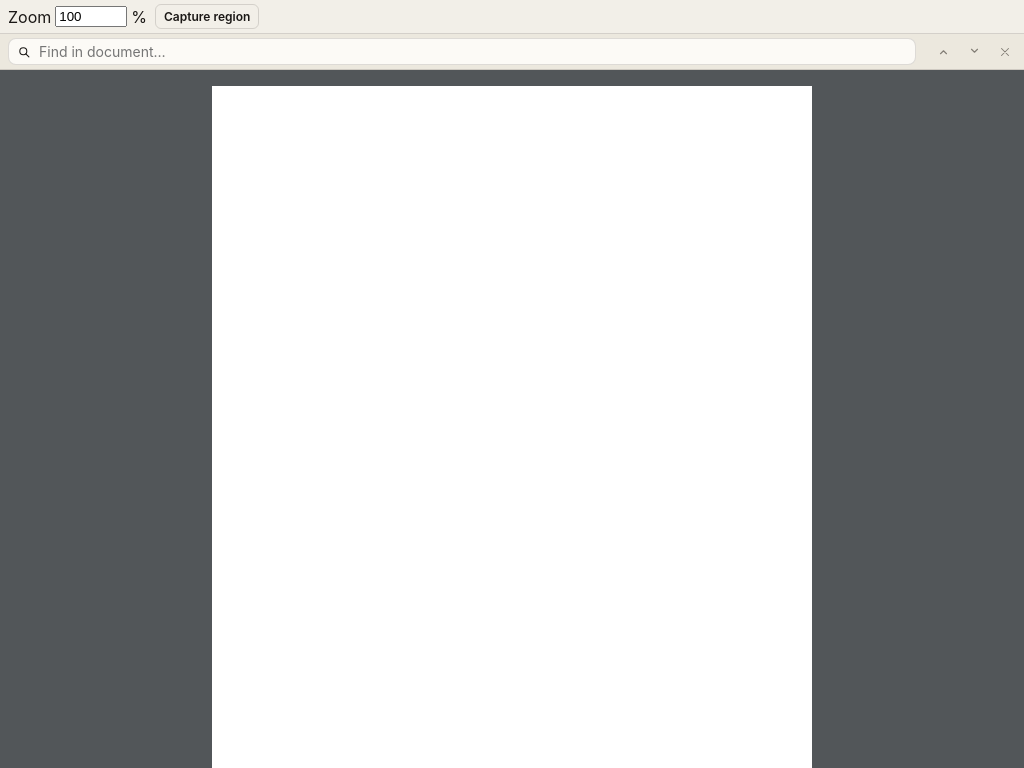
Scenario: DocPaneBody › highlights search matches in a PDF pane
This screenshot has width=1024, height=768.
Type "bar" into the field named "Search this document" at (472, 52), box [37, 42, 907, 61]
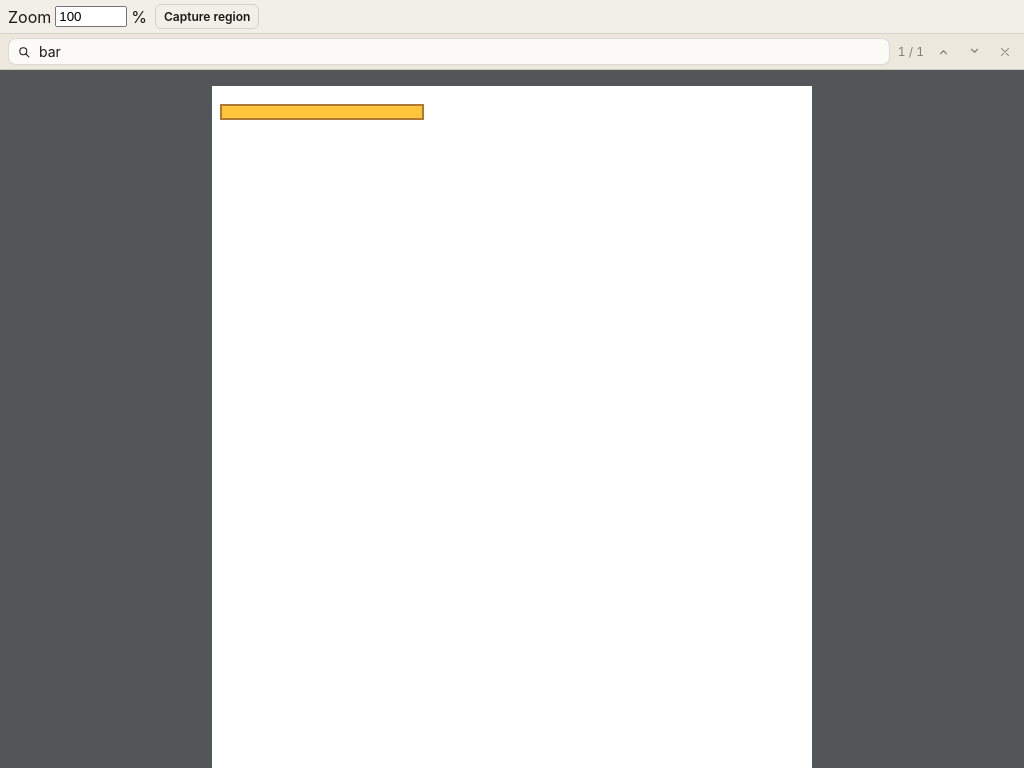
Expected: the element with test id "pdf-highlight" is shown, [222, 106, 422, 118]
